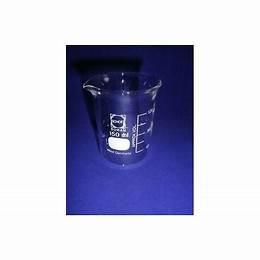Beaker: (78, 65, 167, 166)
